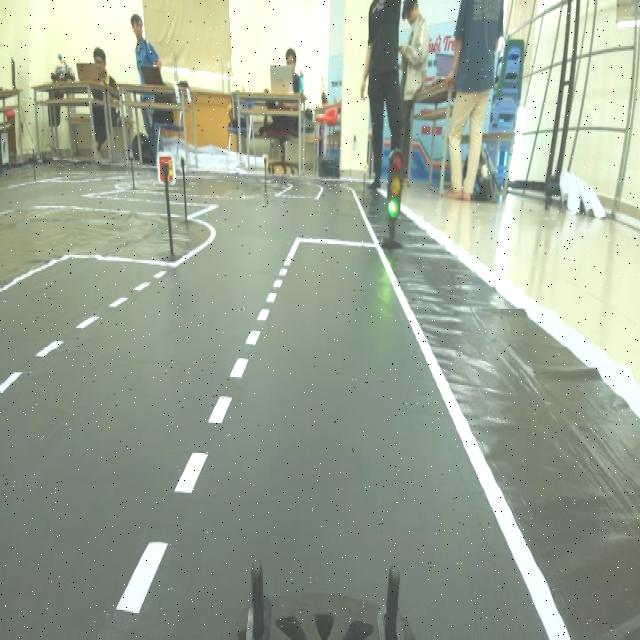trafficlight: (379, 146, 407, 256)
